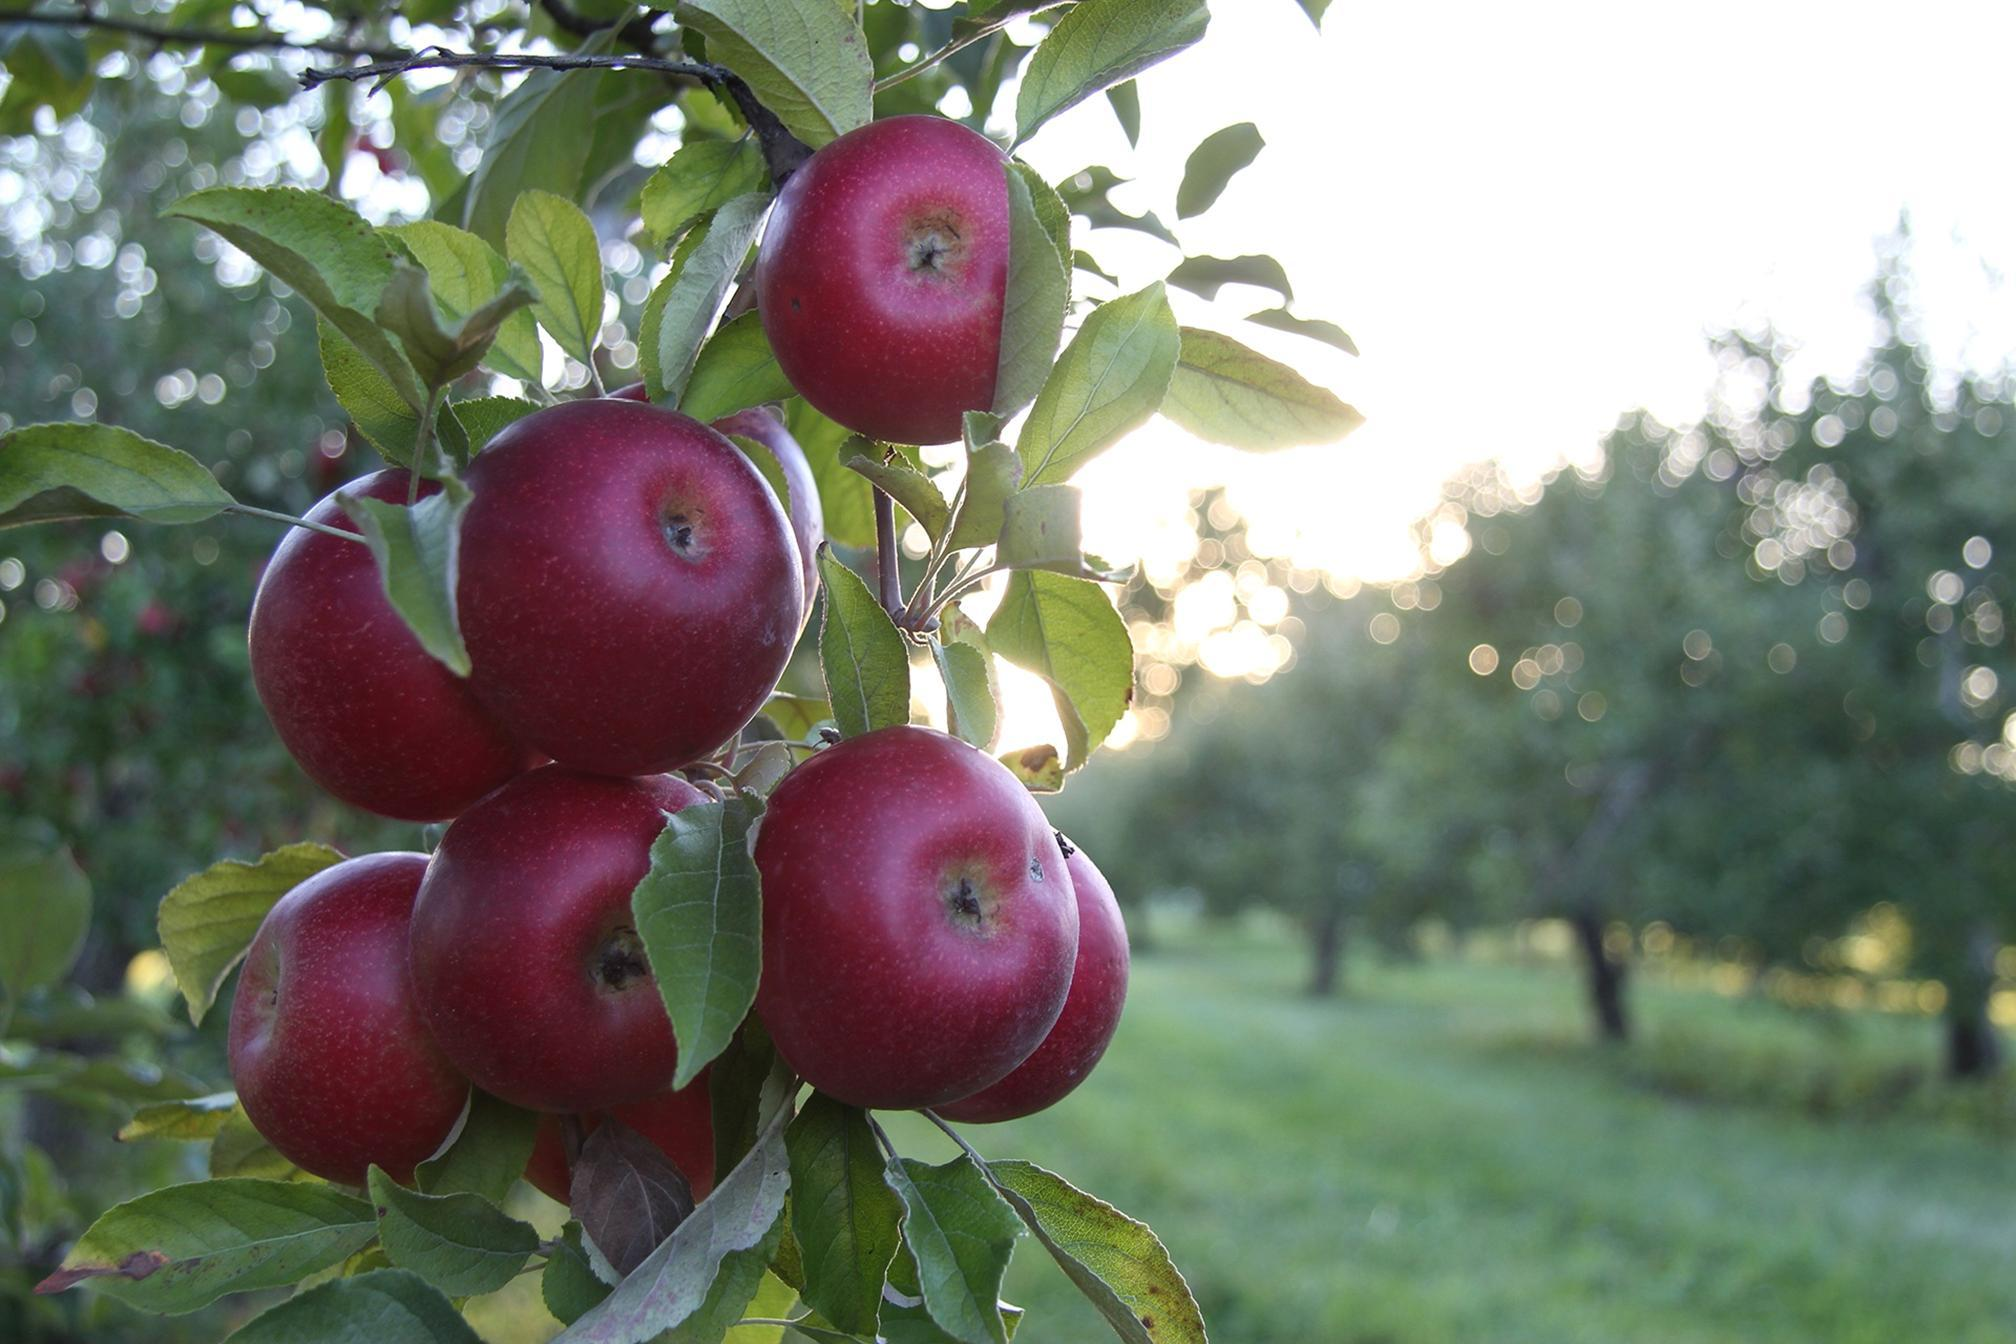Apple leaf: (157, 169, 442, 408), (30, 1173, 388, 1329), (619, 778, 775, 1105), (1015, 255, 1192, 535), (1170, 315, 1392, 483), (1, 402, 244, 555), (1002, 1, 1219, 166), (772, 1078, 900, 1344), (361, 1158, 571, 1309), (502, 183, 630, 405), (799, 540, 922, 739)
